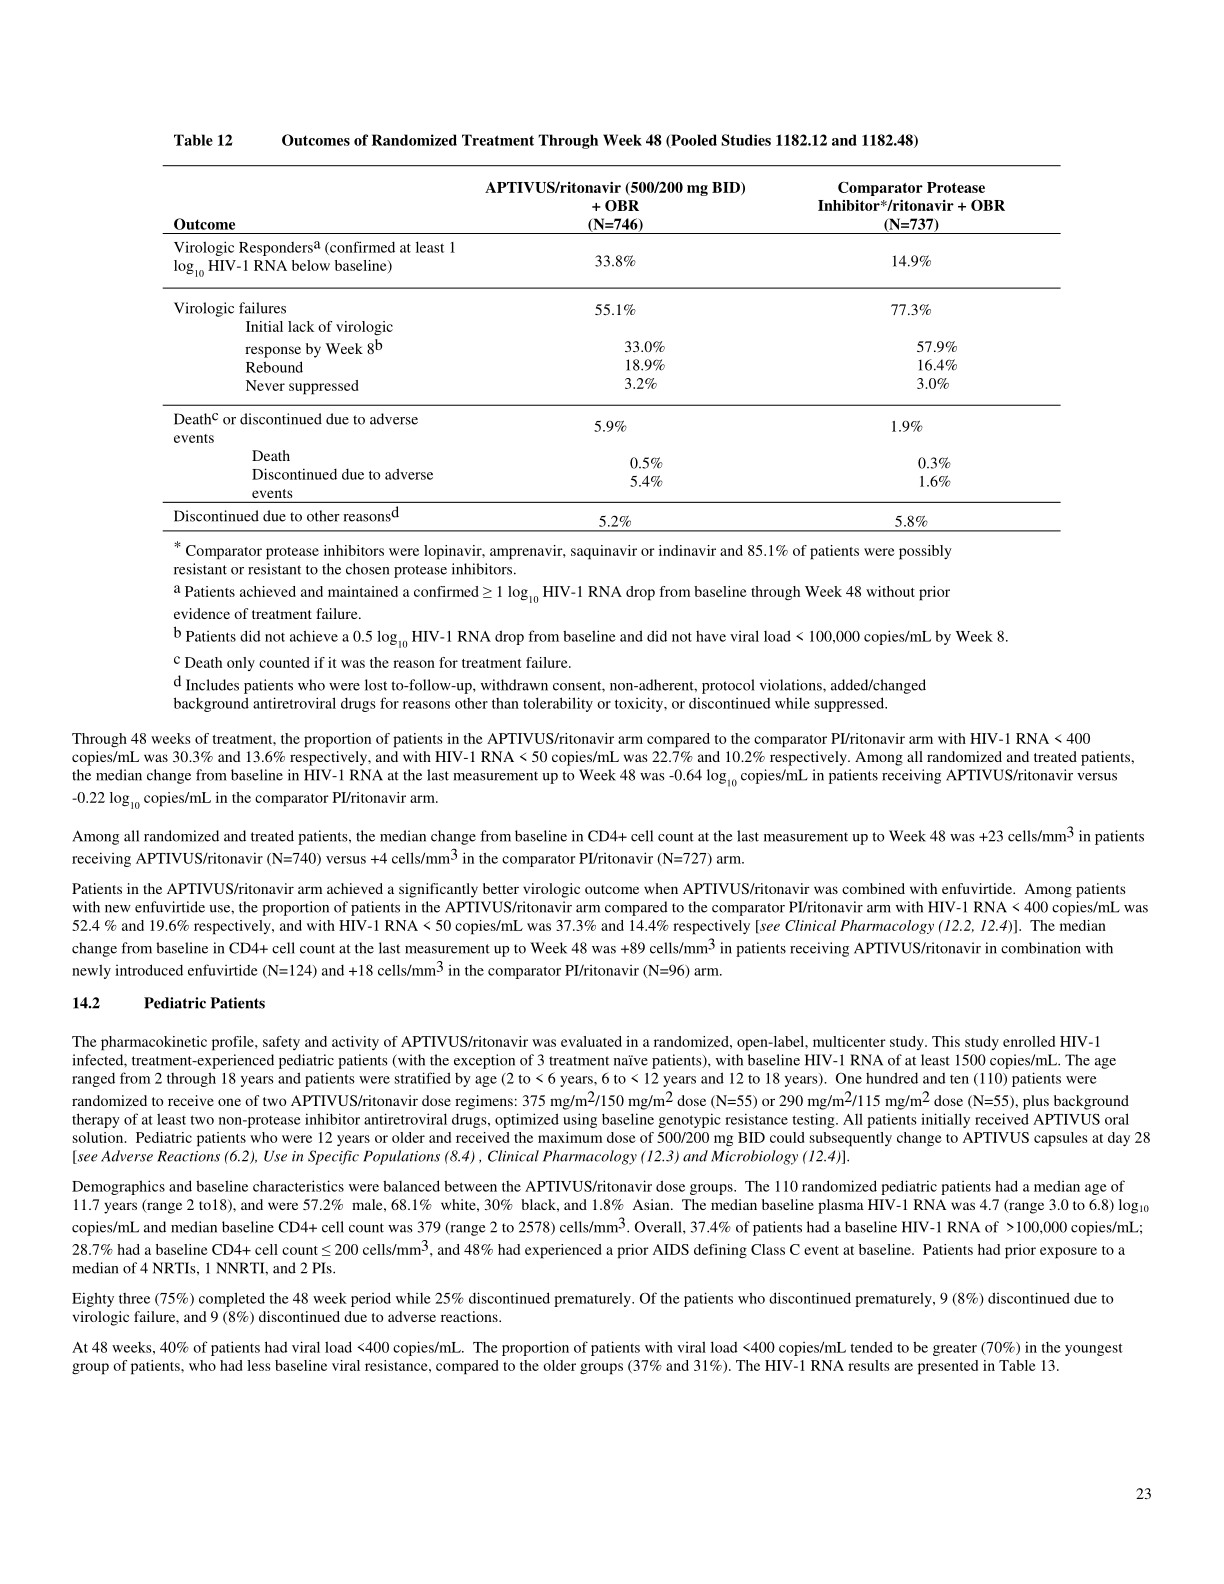partial_lined: (161, 162, 1065, 534)
